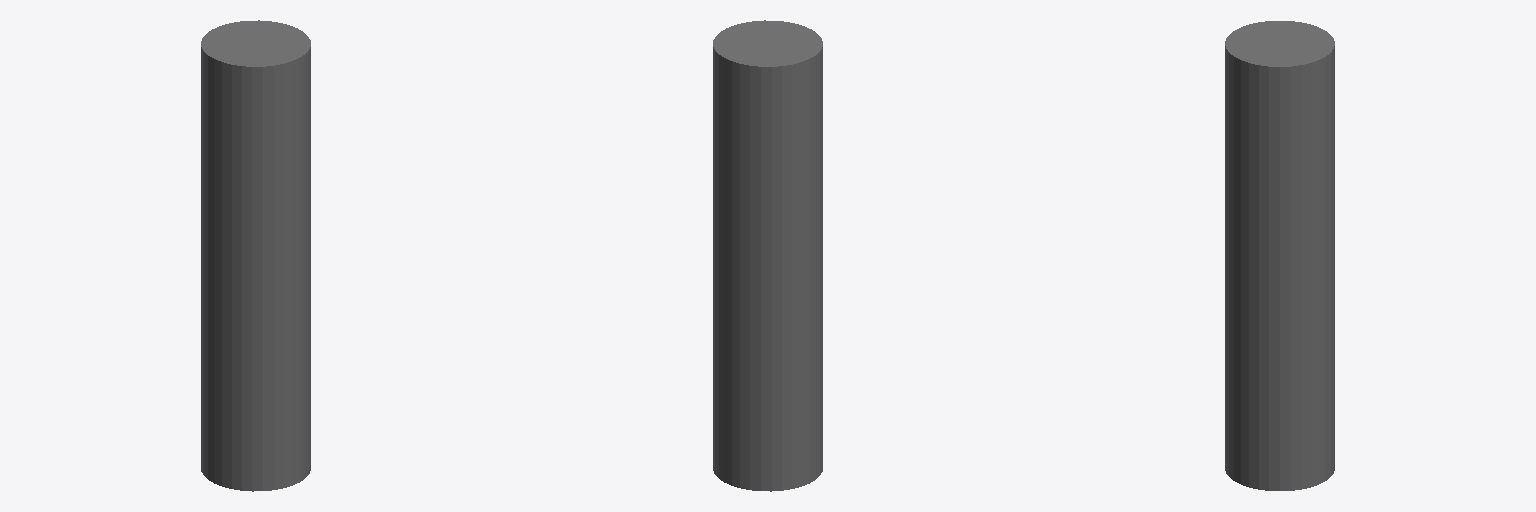
The robot description file, URDF, robot "ur_manipulator":
<?xml version="1.0" ?>
<!-- =================================================================================== -->
<!-- |    This document was autogenerated by xacro from manipulator.urdf.xacro         | -->
<!-- |    EDITING THIS FILE BY HAND IS NOT RECOMMENDED                                 | -->
<!-- =================================================================================== -->
<robot name="ur_manipulator">
  <!-- "example ur3" -->
  <!-- ########################################################################################################################### -->
  <!-- ########################################################################################################################### -->
  <!-- Global world frame -->
  <link name="world"/>
  <!-- Fix the base to the given parent -->
  <joint name="ur3_attachment_to_world" type="fixed">
    <parent link="world"/>
    <child link="ur3_attachment_base_link"/>
    <origin rpy="0 0 0" xyz="0 0 0"/>
  </joint>
  <!-- Cylinder base -->
  <link name="ur3_attachment_base_link">
    <visual>
      <geometry>
        <cylinder length="0.85" radius="0.1"/>
      </geometry>
      <material name="grey">
        <color rgba="0.5 0.5 0.5 1.0"/>
      </material>
      <origin rpy="0 0 0" xyz="0 0 0"/>
    </visual>
    <collision>
      <geometry>
        <cylinder length="0.85" radius="0.1"/>
      </geometry>
      <origin rpy="0 0 0" xyz="0 0 0"/>
    </collision>
    <inertial>
      <mass value="10.0"/>
      <origin rpy="0 0 0" xyz="0 0 0"/>
      <inertia ixx="0.1" ixy="0.0" ixz="0.0" iyy="0.1" iyz="0.0" izz="0.1"/>
    </inertial>
  </link>
  <!-- Mount link ABOVE the cylinder (no <origin> inside link!) -->
  <link name="ur3_attachment_mount_link"/>
  <!-- Fixed transform: base_link -> mount_link at the top face -->
  <joint name="ur3_attachment_base_to_mount" type="fixed">
    <parent link="ur3_attachment_base_link"/>
    <child link="ur3_attachment_mount_link"/>
    <!-- If height=0.85, top is +0.425 from center -->
    <origin rpy="0 0 0" xyz="0 0 0.425"/>
  </joint>
  <!--
    Base UR robot series xacro macro.

    NOTE this is NOT a URDF. It cannot directly be loaded by consumers
    expecting a flattened '.urdf' file. See the top-level '.xacro' for that
    (but note that .xacro must still be processed by the xacro command).

    This file models the base kinematic chain of a UR robot, which then gets
    parameterised by various configuration files to convert it into a UR3(e),
    UR5(e), UR10(e) or UR16e.

    NOTE the default kinematic parameters (i.e., link lengths, frame locations,
    offsets, etc) do not correspond to any particular robot. They are defaults
    only. There WILL be non-zero offsets between the Forward Kinematics results
    in TF (i.e., robot_state_publisher) and the values reported by the Teach
    Pendant.

    For accurate (and robot-specific) transforms, the 'kinematics_parameters_file'
    parameter MUST point to a .yaml file containing the appropriate values for
    the targeted robot.

    If using the UniversalRobots/Universal_Robots_ROS_Driver, follow the steps
    described in the readme of that repository to extract the kinematic
    calibration from the controller and generate the required .yaml file.

    Main author of the migration to yaml configs [author].

    Contributors to previous versions (in no particular order)

     - [author]
     - [author]
     - [author]
     - [author]
     - [author]
     - [author]
     - [author]
     - [author]
     - [author]
     - [author]
     - [author]
     - [author]
     - [author]
     - [author]
     - [author]
     - [author]
     - [author]
     - [author]
     - [author]
  -->
  <!-- links -  main serial chain -->
  <!-- base_link serves as the root of the robot's kinematic tree. It follows REP-103
        conventions (i.e., X+ forward, Y+ left, Z+ up).
        Since some kinematic solvers forbid having inertia values attached to a root link, we've
        added the base_link_inertia link that carries the visual, collision and inertia
        information.
    -->
  <link name="ur3_base_link"/>
  <link name="ur3_base_link_inertia">
    <visual>
      <origin rpy="0.0 0.0 3.141592653589793" xyz="0.0 0.0 0.0"/>
      <geometry>
        <mesh filename="package://ur_description/meshes/ur3/visual/base.dae"/>
      </geometry>
    </visual>
    <collision>
      <origin rpy="0.0 0.0 3.141592653589793" xyz="0.0 0.0 0.0"/>
      <geometry>
        <mesh filename="package://ur_description/meshes/ur3/collision/base.stl"/>
      </geometry>
    </collision>
    <inertial>
      <mass value="2.0"/>
      <origin rpy="0 0 0" xyz="0 0 0"/>
      <inertia ixx="0.0030531654454" ixy="0.0" ixz="0.0" iyy="0.0030531654454" iyz="0.0" izz="0.005625"/>
    </inertial>
  </link>
  <link name="ur3_shoulder_link">
    <visual>
      <origin rpy="0.0 0.0 3.141592653589793" xyz="0.0 0.0 0.0"/>
      <geometry>
        <mesh filename="package://ur_description/meshes/ur3/visual/shoulder.dae"/>
      </geometry>
    </visual>
    <collision>
      <origin rpy="0.0 0.0 3.141592653589793" xyz="0.0 0.0 0.0"/>
      <geometry>
        <mesh filename="package://ur_description/meshes/ur3/collision/shoulder.stl"/>
      </geometry>
    </collision>
    <inertial>
      <mass value="2.0"/>
      <origin rpy="0 0 0" xyz="0.0 0.0 -0.02"/>
      <inertia ixx="0.008093166666666665" ixy="0" ixz="0" iyy="0.008093166666666665" iyz="0" izz="0.005625"/>
    </inertial>
  </link>
  <link name="ur3_upper_arm_link">
    <visual>
      <origin rpy="1.5707963267948966 0.0 -1.5707963267948966" xyz="0.0 0.0 0.1198"/>
      <geometry>
        <mesh filename="package://ur_description/meshes/ur3/visual/upperarm.dae"/>
      </geometry>
    </visual>
    <collision>
      <origin rpy="1.5707963267948966 0.0 -1.5707963267948966" xyz="0.0 0.0 0.1198"/>
      <geometry>
        <mesh filename="package://ur_description/meshes/ur3/collision/upperarm.stl"/>
      </geometry>
    </collision>
    <inertial>
      <mass value="3.42"/>
      <origin rpy="0 1.570796326794897 0" xyz="-0.11365 0.0 0.1157"/>
      <inertia ixx="0.021728491912499998" ixy="0" ixz="0" iyy="0.021728491912499998" iyz="0" izz="0.00961875"/>
    </inertial>
  </link>
  <link name="ur3_forearm_link">
    <visual>
      <origin rpy="1.5707963267948966 0.0 -1.5707963267948966" xyz="0.0 0.0 0.0275"/>
      <geometry>
        <mesh filename="package://ur_description/meshes/ur3/visual/forearm.dae"/>
      </geometry>
    </visual>
    <collision>
      <origin rpy="1.5707963267948966 0.0 -1.5707963267948966" xyz="0.0 0.0 0.0275"/>
      <geometry>
        <mesh filename="package://ur_description/meshes/ur3/collision/forearm.stl"/>
      </geometry>
    </collision>
    <inertial>
      <mass value="1.26"/>
      <origin rpy="0 1.570796326794897 0" xyz="-0.16325 0.0 0.0238"/>
      <inertia ixx="0.0065468090625" ixy="0" ixz="0" iyy="0.0065468090625" iyz="0" izz="0.00354375"/>
    </inertial>
  </link>
  <link name="ur3_wrist_1_link">
    <visual>
      <origin rpy="1.5707963267948966 0.0 0.0" xyz="0.0 0.0 -0.085"/>
      <geometry>
        <mesh filename="package://ur_description/meshes/ur3/visual/wrist1.dae"/>
      </geometry>
    </visual>
    <collision>
      <origin rpy="1.5707963267948966 0.0 0.0" xyz="0.0 0.0 -0.085"/>
      <geometry>
        <mesh filename="package://ur_description/meshes/ur3/collision/wrist1.stl"/>
      </geometry>
    </collision>
    <inertial>
      <mass value="0.8"/>
      <origin rpy="0 0 0" xyz="0.0 -0.01 0.0"/>
      <inertia ixx="0.0016106414999999998" ixy="0" ixz="0" iyy="0.0016106414999999998" iyz="0" izz="0.00225"/>
    </inertial>
  </link>
  <link name="ur3_wrist_2_link">
    <visual>
      <origin rpy="0.0 0.0 0.0" xyz="0.0 0.0 -0.083"/>
      <geometry>
        <mesh filename="package://ur_description/meshes/ur3/visual/wrist2.dae"/>
      </geometry>
    </visual>
    <collision>
      <origin rpy="0.0 0.0 0.0" xyz="0.0 0.0 -0.083"/>
      <geometry>
        <mesh filename="package://ur_description/meshes/ur3/collision/wrist2.stl"/>
      </geometry>
    </collision>
    <inertial>
      <mass value="0.8"/>
      <origin rpy="0 0 0" xyz="0.0 0.01 0.0"/>
      <inertia ixx="0.0015721739999999998" ixy="0" ixz="0" iyy="0.0015721739999999998" iyz="0" izz="0.00225"/>
    </inertial>
  </link>
  <link name="ur3_wrist_3_link">
    <visual>
      <origin rpy="1.5707963267948966 0.0 0.0" xyz="0.0 -0.00255 -0.082"/>
      <geometry>
        <mesh filename="package://ur_description/meshes/ur3/visual/wrist3.dae"/>
      </geometry>
    </visual>
    <collision>
      <origin rpy="1.5707963267948966 0.0 0.0" xyz="0.0 -0.00255 -0.082"/>
      <geometry>
        <mesh filename="package://ur_description/meshes/ur3/collision/wrist3.stl"/>
      </geometry>
    </collision>
    <inertial>
      <mass value="0.35"/>
      <origin rpy="0 0 0" xyz="0.0 0.0 -0.02"/>
      <inertia ixx="0.00013626666666666665" ixy="0" ixz="0" iyy="0.00013626666666666665" iyz="0" izz="0.0001792"/>
    </inertial>
  </link>
  <!-- base_joint fixes base_link to the environment -->
  <joint name="ur3_base_joint" type="fixed">
    <origin rpy="0 0 0" xyz="0 0 0"/>
    <parent link="ur3_attachment_mount_link"/>
    <child link="ur3_base_link"/>
  </joint>
  <!-- joints - main serial chain -->
  <joint name="ur3_base_link-base_link_inertia" type="fixed">
    <parent link="ur3_base_link"/>
    <child link="ur3_base_link_inertia"/>
    <!-- 'base_link' is REP-103 aligned (so X+ forward), while the internal
           frames of the robot/controller have X+ pointing backwards.
           Use the joint between 'base_link' and 'base_link_inertia' (a dummy
           link/frame) to introduce the necessary rotation over Z (of pi rad).
      -->
    <origin rpy="0 0 3.141592653589793" xyz="0 0 0"/>
  </joint>
  <joint name="ur3_shoulder_pan_joint" type="revolute">
    <parent link="ur3_base_link_inertia"/>
    <child link="ur3_shoulder_link"/>
    <origin rpy="0 0 0" xyz="0 0 0.1519"/>
    <axis xyz="0 0 1"/>
    <limit effort="56.0" lower="-6.283185307179586" upper="6.283185307179586" velocity="3.141592653589793"/>
    <dynamics damping="0" friction="0"/>
  </joint>
  <joint name="ur3_shoulder_lift_joint" type="revolute">
    <parent link="ur3_shoulder_link"/>
    <child link="ur3_upper_arm_link"/>
    <origin rpy="1.570796327 0 0" xyz="0 0 0"/>
    <axis xyz="0 0 1"/>
    <limit effort="56.0" lower="-6.283185307179586" upper="6.283185307179586" velocity="3.141592653589793"/>
    <dynamics damping="0" friction="0"/>
  </joint>
  <joint name="ur3_elbow_joint" type="revolute">
    <parent link="ur3_upper_arm_link"/>
    <child link="ur3_forearm_link"/>
    <origin rpy="0 0 0" xyz="-0.24365 0 0"/>
    <axis xyz="0 0 1"/>
    <limit effort="28.0" lower="-3.141592653589793" upper="3.141592653589793" velocity="3.141592653589793"/>
    <dynamics damping="0" friction="0"/>
  </joint>
  <joint name="ur3_wrist_1_joint" type="revolute">
    <parent link="ur3_forearm_link"/>
    <child link="ur3_wrist_1_link"/>
    <origin rpy="0 0 0" xyz="-0.21325 0 0.11235"/>
    <axis xyz="0 0 1"/>
    <limit effort="12.0" lower="-6.283185307179586" upper="6.283185307179586" velocity="6.283185307179586"/>
    <dynamics damping="0" friction="0"/>
  </joint>
  <joint name="ur3_wrist_2_joint" type="revolute">
    <parent link="ur3_wrist_1_link"/>
    <child link="ur3_wrist_2_link"/>
    <origin rpy="1.570796327 0 0" xyz="0 -0.08535 -1.750557762378351e-11"/>
    <axis xyz="0 0 1"/>
    <limit effort="12.0" lower="-6.283185307179586" upper="6.283185307179586" velocity="6.283185307179586"/>
    <dynamics damping="0" friction="0"/>
  </joint>
  <joint name="ur3_wrist_3_joint" type="continuous">
    <parent link="ur3_wrist_2_link"/>
    <child link="ur3_wrist_3_link"/>
    <origin rpy="1.570796326589793 3.141592653589793 3.141592653589793" xyz="0 0.0819 -1.679797079540562e-11"/>
    <axis xyz="0 0 1"/>
    <limit effort="12.0" velocity="6.283185307179586"/>
    <dynamics damping="0" friction="0"/>
  </joint>
  <link name="ur3_ft_frame"/>
  <joint name="ur3_wrist_3_link-ft_frame" type="fixed">
    <parent link="ur3_wrist_3_link"/>
    <child link="ur3_ft_frame"/>
    <origin rpy="3.141592653589793 0 0" xyz="0 0 0"/>
  </joint>
  <!-- ROS-Industrial 'base' frame - base_link to UR 'Base' Coordinates transform -->
  <link name="ur3_base"/>
  <joint name="ur3_base_link-base_fixed_joint" type="fixed">
    <!-- Note the rotation over Z of pi radians - as base_link is REP-103
           aligned (i.e., has X+ forward, Y+ left and Z+ up), this is needed
           to correctly align 'base' with the 'Base' coordinate system of
           the UR controller.
      -->
    <origin rpy="0 0 3.141592653589793" xyz="0 0 0"/>
    <parent link="ur3_base_link"/>
    <child link="ur3_base"/>
  </joint>
  <!-- ROS-Industrial 'flange' frame - attachment point for EEF models -->
  <link name="ur3_flange"/>
  <joint name="ur3_wrist_3-flange" type="fixed">
    <parent link="ur3_wrist_3_link"/>
    <child link="ur3_flange"/>
    <origin rpy="0 -1.5707963267948966 -1.5707963267948966" xyz="0 0 0"/>
  </joint>
  <!-- ROS-Industrial 'tool0' frame - all-zeros tool frame -->
  <link name="ur3_tool0"/>
  <joint name="ur3_flange-tool0" type="fixed">
    <!-- default toolframe - X+ left, Y+ up, Z+ front -->
    <origin rpy="1.5707963267948966 0 1.5707963267948966" xyz="0 0 0"/>
    <parent link="ur3_flange"/>
    <child link="ur3_tool0"/>
  </joint>
  <ros2_control name="ur3" type="system">
    <hardware>
      <plugin>mock_components/GenericSystem</plugin>
      <param name="mock_sensor_commands">False</param>
      <param name="state_following_offset">0.0</param>
      <param name="calculate_dynamics">true</param>
    </hardware>
    <joint name="ur3_shoulder_pan_joint">
      <command_interface name="position"/>
      <command_interface name="velocity"/>
      <state_interface name="position">
        <!-- initial position for the mock system and simulation -->
        <param name="initial_value">0.0</param>
      </state_interface>
      <state_interface name="velocity">
        <param name="initial_value">0.0</param>
      </state_interface>
      <state_interface name="effort">
        <param name="initial_value">0.0</param>
      </state_interface>
    </joint>
    <joint name="ur3_shoulder_lift_joint">
      <command_interface name="position"/>
      <command_interface name="velocity"/>
      <state_interface name="position">
        <!-- initial position for the mock system and simulation -->
        <param name="initial_value">-1.57</param>
      </state_interface>
      <state_interface name="velocity">
        <param name="initial_value">0.0</param>
      </state_interface>
      <state_interface name="effort">
        <param name="initial_value">0.0</param>
      </state_interface>
    </joint>
    <joint name="ur3_elbow_joint">
      <command_interface name="position"/>
      <command_interface name="velocity"/>
      <state_interface name="position">
        <!-- initial position for the mock system and simulation -->
        <param name="initial_value">0.0</param>
      </state_interface>
      <state_interface name="velocity">
        <param name="initial_value">0.0</param>
      </state_interface>
      <state_interface name="effort">
        <param name="initial_value">0.0</param>
      </state_interface>
    </joint>
    <joint name="ur3_wrist_1_joint">
      <command_interface name="position"/>
      <command_interface name="velocity"/>
      <state_interface name="position">
        <!-- initial position for the mock system and simulation -->
        <param name="initial_value">-1.57</param>
      </state_interface>
      <state_interface name="velocity">
        <param name="initial_value">0.0</param>
      </state_interface>
      <state_interface name="effort">
        <param name="initial_value">0.0</param>
      </state_interface>
    </joint>
    <joint name="ur3_wrist_2_joint">
      <command_interface name="position"/>
      <command_interface name="velocity"/>
      <state_interface name="position">
        <!-- initial position for the mock system and simulation -->
        <param name="initial_value">0.0</param>
      </state_interface>
      <state_interface name="velocity">
        <param name="initial_value">0.0</param>
      </state_interface>
      <state_interface name="effort">
        <param name="initial_value">0.0</param>
      </state_interface>
    </joint>
    <joint name="ur3_wrist_3_joint">
      <command_interface name="position"/>
      <command_interface name="velocity"/>
      <state_interface name="position">
        <!-- initial position for the mock system and simulation -->
        <param name="initial_value">0.0</param>
      </state_interface>
      <state_interface name="velocity">
        <param name="initial_value">0.0</param>
      </state_interface>
      <state_interface name="effort">
        <param name="initial_value">0.0</param>
      </state_interface>
    </joint>
    <sensor name="ur3_tcp_fts_sensor">
      <state_interface name="force.x"/>
      <state_interface name="force.y"/>
      <state_interface name="force.z"/>
      <state_interface name="torque.x"/>
      <state_interface name="torque.y"/>
      <state_interface name="torque.z"/>
    </sensor>
    <sensor name="ur3_tcp_pose">
      <state_interface name="position.x"/>
      <state_interface name="position.y"/>
      <state_interface name="position.z"/>
      <state_interface name="orientation.x"/>
      <state_interface name="orientation.y"/>
      <state_interface name="orientation.z"/>
      <state_interface name="orientation.w"/>
    </sensor>
  </ros2_control>
</robot>

--- What the picture shows (computed from the rendered views, not written in the file) ---
3 views of the same robot in one strip: view 1: azimuth 30°, elevation 25°; view 2: azimuth 150°, elevation 25°; view 3: azimuth 270°, elevation 25° (orthographic).
Model ur_manipulator with 15 links and 14 joints (5 revolute, 1 continuous, 8 fixed), rooted at world, posed all joints at 0.
Visible links, largest first — view 1: ur3_attachment_base_link; view 2: ur3_attachment_base_link; view 3: ur3_attachment_base_link.
Link boxes in pixels (left/top/right/bottom): ur3_attachment_base_link: left=201, top=20, right=310, bottom=491; ur3_attachment_base_link: left=713, top=20, right=822, bottom=491; ur3_attachment_base_link: left=1225, top=21, right=1334, bottom=490.
Bounding box of the posed robot: 0.2 × 0.2 × 0.85 m (x, y, z).
Meshes: 7 distinct files referenced, 0 mesh visuals loaded (none loaded); not drawn: 7 (reference not matched to a file when rendering).